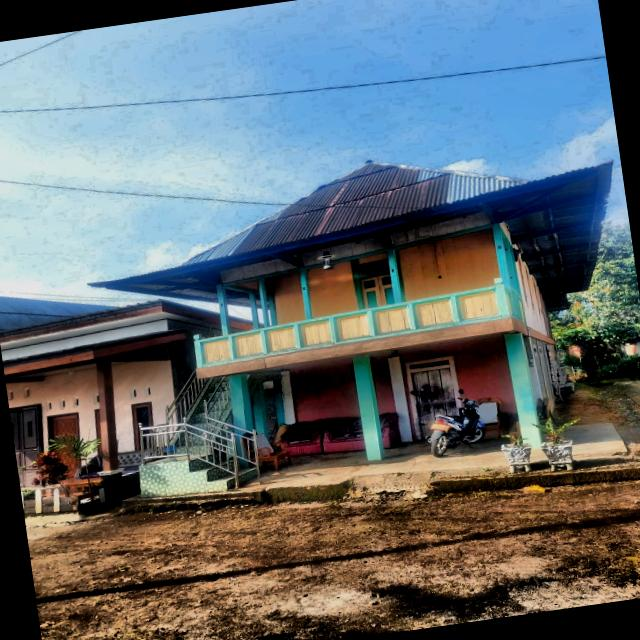door: (412, 368, 458, 439), (360, 273, 395, 309), (51, 414, 79, 438)
ornamen: (455, 289, 502, 322), (412, 296, 455, 329), (372, 304, 412, 336), (333, 312, 371, 342), (297, 318, 332, 348), (264, 325, 297, 353), (231, 331, 263, 359), (200, 337, 231, 364)
roof: (92, 162, 612, 310), (0, 299, 220, 346), (0, 297, 117, 331)
wall: (397, 336, 517, 418), (398, 228, 500, 301), (290, 359, 361, 422), (307, 260, 358, 318), (515, 260, 548, 336), (271, 271, 306, 325), (370, 357, 396, 415)
window: (134, 404, 152, 450)
